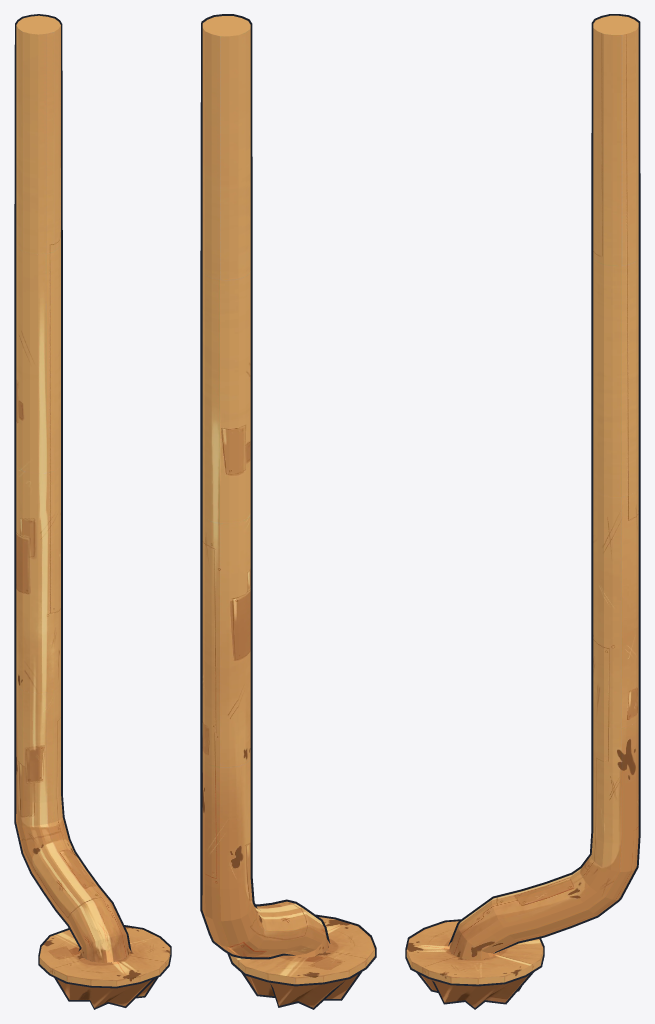
File: grinder.glb
3 renders of one model, left to right at view 1: azimuth 30°, elevation 25°; view 2: azimuth 150°, elevation 25°; view 3: azimuth 270°, elevation 25°, orthographic. The views are drawn at different scales.
Parts seen in each view (by area): view 1: meulearm, meulehead, meulearm border, meulehead border; view 2: meulearm, meulehead, meulearm border, meulehead border; view 3: meulearm, meulehead, meulearm border, meulehead border.
Boxes of the visible parts, box(x1,y1,x2,y2) form: meulearm: box(16, 15, 129, 962); meulehead: box(39, 927, 170, 1007); meulearm border: box(14, 14, 131, 951); meulehead border: box(38, 925, 171, 1009); meulearm: box(202, 16, 328, 957); meulehead: box(230, 917, 374, 1007); meulearm border: box(200, 14, 330, 959); meulehead border: box(227, 914, 376, 1009); meulearm: box(449, 15, 638, 959); meulehead: box(406, 921, 543, 1007); meulearm border: box(448, 14, 640, 953); meulehead border: box(405, 919, 544, 1009).
Bounding box in the file's own units: 0.526 × 4.03 × 0.8881.
3 materials, 2 textured.
